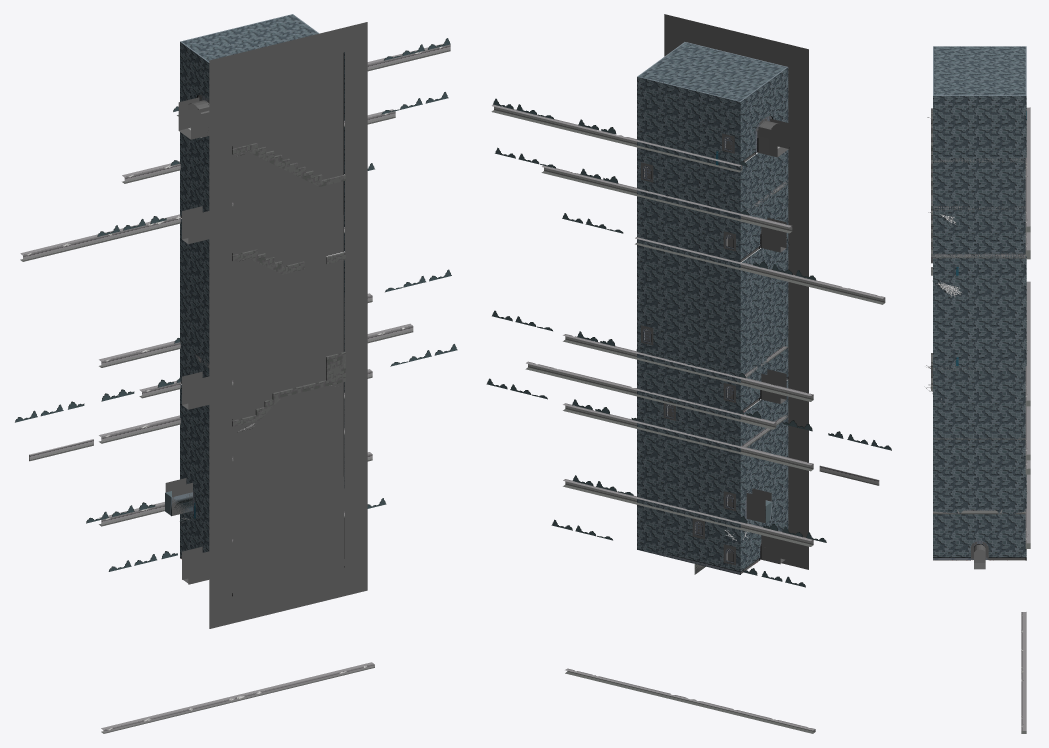
File: gon_05_bake.dae
The picture shows the model from 3 angles, left to right: view 1: azimuth 30°, elevation 25°; view 2: azimuth 150°, elevation 25°; view 3: azimuth 270°, elevation 25°; orthographic projection. The views are drawn at different scales.
Parts seen in each view (by area): view 1: a_kabemae, kuro5, polySurface205_q00139_part0, pCube112_q00137_part0, yuka2, polySurface204_q00138_part0, pCube151_q00129_part0, pCube151_q00134_part0, polySurface543_q00196, s_kabeyoko02_part0, polySurface261_q00237, polySurface84_q00140_part0 (+10 smaller); view 2: polySurface825_q00259, kuro5, polySurface205_q00139_part0, yuka2, pCube112_q00137_part0, polySurface204_q00138_part0, s_kabeyoko02_part0, pCube151_q00132_part0, pCube151_q00133_part0, pCube151_q00131_part0, pCube151_q00135_part0, pCube151_q00134_part0 (+7 smaller); view 3: polySurface85_q00141_part0, yuka2, pCube151_q00129_part0, pCube151_q00136_part0, pCube151_q00133_part0, polySurface817_q00115, pCube151_q00130_part0, pCube151_q00132_part0, polySurface817_q00121, polySurface817_q00112, polySurface85_q00141_part1, a_kabeyoko_03.
Part boxes in pixels (left/top/right/bottom): a_kabemae: left=232, top=53, right=344, bottom=595; kuro5: left=209, top=22, right=367, bottom=628; polySurface205_q00139_part0: left=180, top=218, right=209, bottom=380; pCube112_q00137_part0: left=165, top=384, right=209, bottom=524; yuka2: left=180, top=14, right=319, bottom=62; polySurface204_q00138_part0: left=180, top=132, right=209, bottom=215; pCube151_q00129_part0: left=101, top=662, right=374, bottom=733; pCube151_q00134_part0: left=20, top=214, right=180, bottom=261; polySurface543_q00196: left=232, top=352, right=345, bottom=426; s_kabeyoko02_part0: left=180, top=42, right=209, bottom=101; polySurface261_q00237: left=232, top=143, right=345, bottom=186; polySurface84_q00140_part0: left=180, top=511, right=209, bottom=555; polySurface825_q00259: left=637, top=77, right=740, bottom=574; kuro5: left=664, top=14, right=808, bottom=569; polySurface205_q00139_part0: left=740, top=233, right=788, bottom=410; yuka2: left=637, top=42, right=787, bottom=101; pCube112_q00137_part0: left=740, top=380, right=788, bottom=524; polySurface204_q00138_part0: left=740, top=150, right=788, bottom=259; s_kabeyoko02_part0: left=740, top=67, right=788, bottom=161; pCube151_q00132_part0: left=525, top=361, right=776, bottom=429; pCube151_q00133_part0: left=563, top=334, right=813, bottom=401; pCube151_q00131_part0: left=563, top=403, right=813, bottom=471; pCube151_q00135_part0: left=541, top=165, right=792, bottom=233; pCube151_q00134_part0: left=635, top=237, right=885, bottom=304; polySurface85_q00141_part0: left=933, top=96, right=1026, bottom=557; yuka2: left=933, top=46, right=1026, bottom=95; pCube151_q00129_part0: left=1021, top=612, right=1026, bottom=733; pCube151_q00136_part0: left=1025, top=107, right=1030, bottom=232; pCube151_q00133_part0: left=1025, top=281, right=1030, bottom=406; polySurface817_q00115: left=933, top=253, right=1025, bottom=258; pCube151_q00130_part0: left=1025, top=474, right=1030, bottom=548; pCube151_q00132_part0: left=1025, top=406, right=1030, bottom=460; polySurface817_q00121: left=933, top=509, right=1025, bottom=514; polySurface817_q00112: left=933, top=158, right=1024, bottom=162; polySurface85_q00141_part1: left=933, top=541, right=1025, bottom=560; a_kabeyoko_03: left=971, top=542, right=1025, bottom=560.
Bounding box in the file's own units: 196 × 294 × 48.19.
